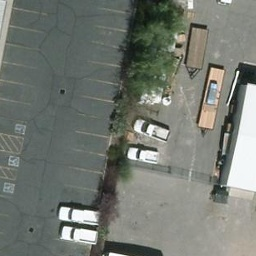car: (135, 114, 172, 142), (63, 226, 98, 246), (58, 208, 102, 222), (126, 148, 160, 164)
